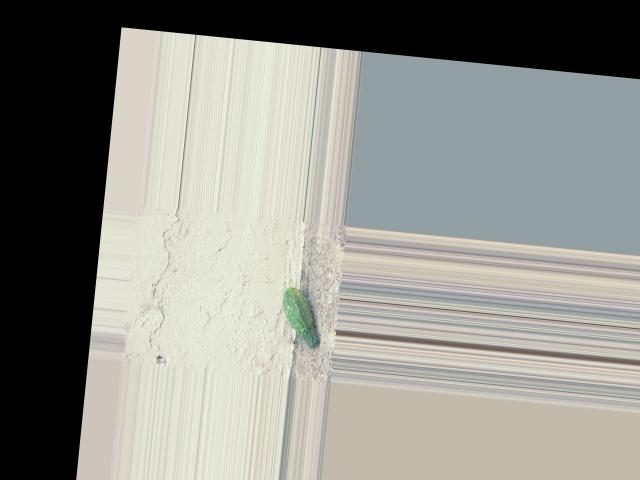cucumber: (277, 286, 323, 347)
